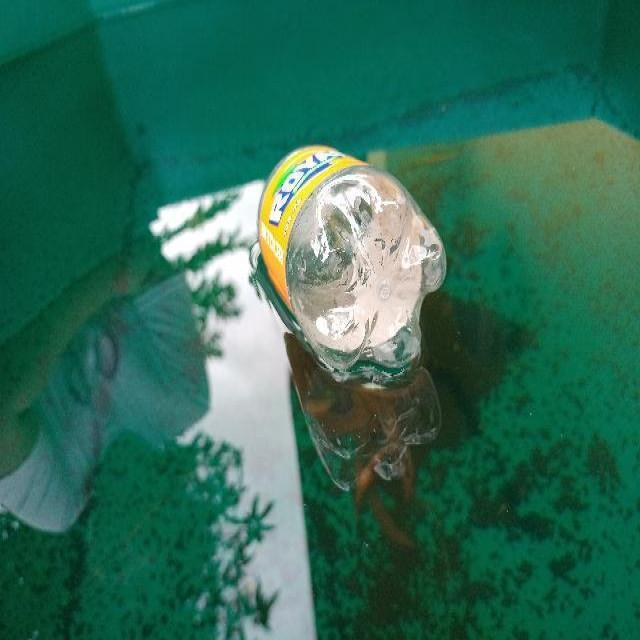Bottle: (250, 140, 447, 388)
